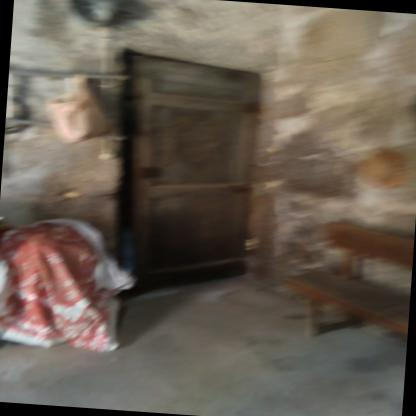closed: (102, 42, 277, 301)
